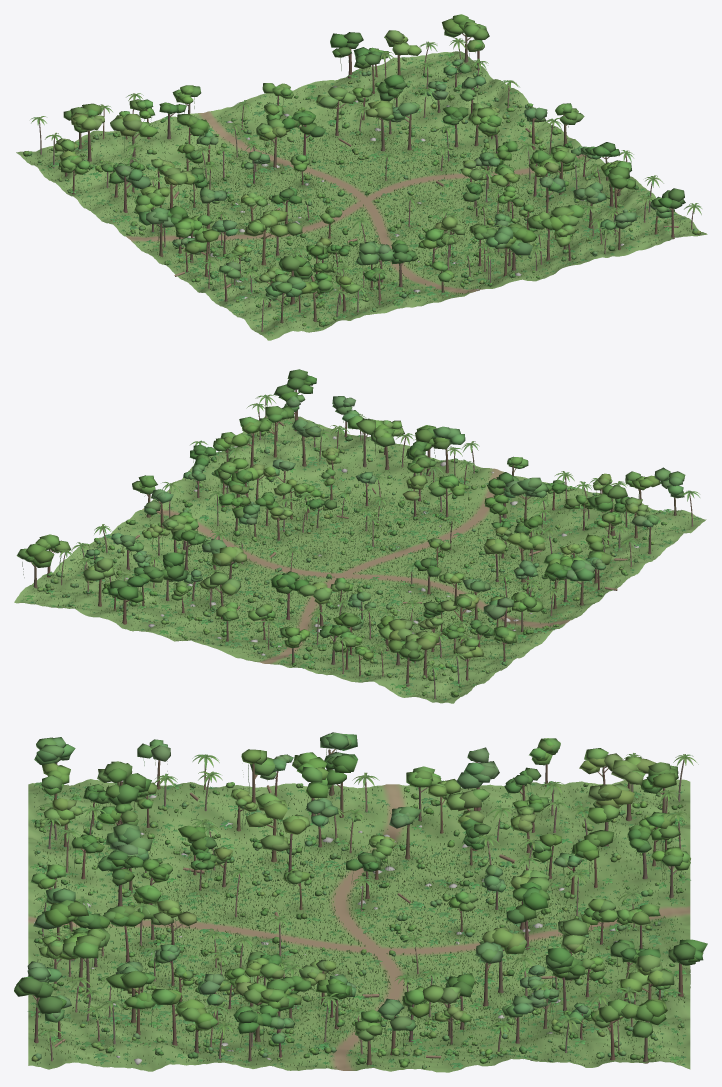
File: selva.glb
3 renders of one model, top to bottom at view 1: azimuth 30°, elevation 25°; view 2: azimuth 150°, elevation 25°; view 3: azimuth 270°, elevation 25°, orthographic. The views are drawn at different scales.
Visible parts, largest first — view 1: Chao, Vegetacao_3_3, Vegetacao_2_0, Vegetacao_0_1, Vegetacao_0_0, Vegetacao_0_3, Vegetacao_3_2, Vegetacao_3_0, Vegetacao_1_2, Vegetacao_3_1, Vegetacao_1_3, Vegetacao_2_3 (+6 smaller); view 2: Chao, Vegetacao_2_0, Vegetacao_3_3, Vegetacao_3_1, Vegetacao_0_0, Vegetacao_0_3, Vegetacao_3_0, Vegetacao_0_1, Vegetacao_2_1, Vegetacao_2_3, Vegetacao_1_0, Vegetacao_3_2 (+6 smaller); view 3: Chao, Vegetacao_3_3, Vegetacao_0_1, Vegetacao_2_0, Vegetacao_3_1, Vegetacao_0_0, Vegetacao_0_2, Vegetacao_3_2, Vegetacao_0_3, Vegetacao_3_0, Vegetacao_1_3, Vegetacao_1_2 (+6 smaller).
Part boxes in pixels (x1,y1,x2,y2): Chao: [16, 51, 707, 340]; Vegetacao_3_3: [330, 14, 512, 130]; Vegetacao_2_0: [428, 204, 597, 287]; Vegetacao_0_1: [138, 205, 314, 289]; Vegetacao_0_0: [211, 256, 375, 335]; Vegetacao_0_3: [23, 103, 186, 199]; Vegetacao_3_2: [411, 75, 584, 178]; Vegetacao_3_0: [539, 161, 701, 255]; Vegetacao_1_2: [190, 118, 360, 230]; Vegetacao_3_1: [472, 141, 638, 220]; Vegetacao_1_3: [126, 85, 291, 186]; Vegetacao_2_3: [238, 78, 408, 158]; Chao: [14, 416, 706, 703]; Vegetacao_2_0: [319, 415, 480, 525]; Vegetacao_3_3: [16, 534, 187, 624]; Vegetacao_3_1: [154, 432, 305, 546]; Vegetacao_0_0: [543, 467, 701, 562]; Vegetacao_0_3: [349, 618, 516, 700]; Vegetacao_3_0: [210, 369, 370, 498]; Vegetacao_0_1: [478, 527, 637, 614]; Vegetacao_2_1: [253, 479, 423, 572]; Vegetacao_2_3: [131, 568, 309, 651]; Vegetacao_1_0: [427, 456, 592, 551]; Vegetacao_3_2: [84, 475, 250, 591]; Chao: [28, 779, 690, 1072]; Vegetacao_3_3: [522, 939, 707, 1065]; Vegetacao_0_1: [191, 732, 366, 873]; Vegetacao_2_0: [33, 888, 197, 1010]; Vegetacao_3_1: [181, 973, 359, 1069]; Vegetacao_0_0: [31, 737, 195, 870]; Vegetacao_0_2: [352, 747, 541, 873]; Vegetacao_3_2: [342, 970, 534, 1069]; Vegetacao_0_3: [510, 738, 698, 871]; Vegetacao_3_0: [14, 961, 204, 1065]; Vegetacao_1_3: [516, 811, 690, 943]; Vegetacao_1_2: [346, 834, 549, 943].
Size of the model in its own units: 147 by 21.27 by 147.
